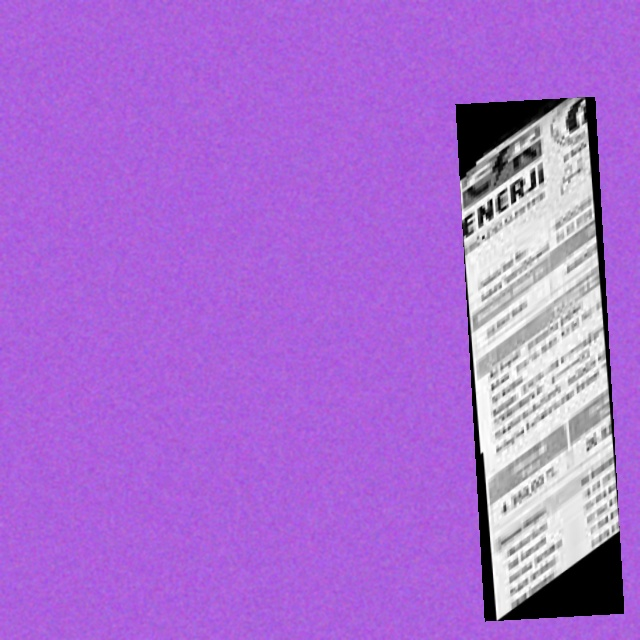electricity-bill: (454, 96, 623, 621)
